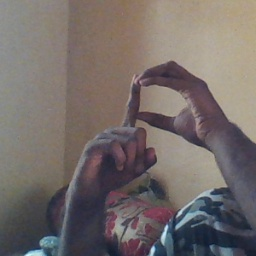P: (84, 57, 213, 184)
